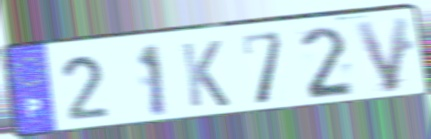1: (134, 41, 172, 117)
2: (298, 25, 359, 102), (59, 54, 113, 123)
7: (241, 29, 284, 107)
K: (178, 38, 233, 110)
V: (351, 13, 412, 96)
